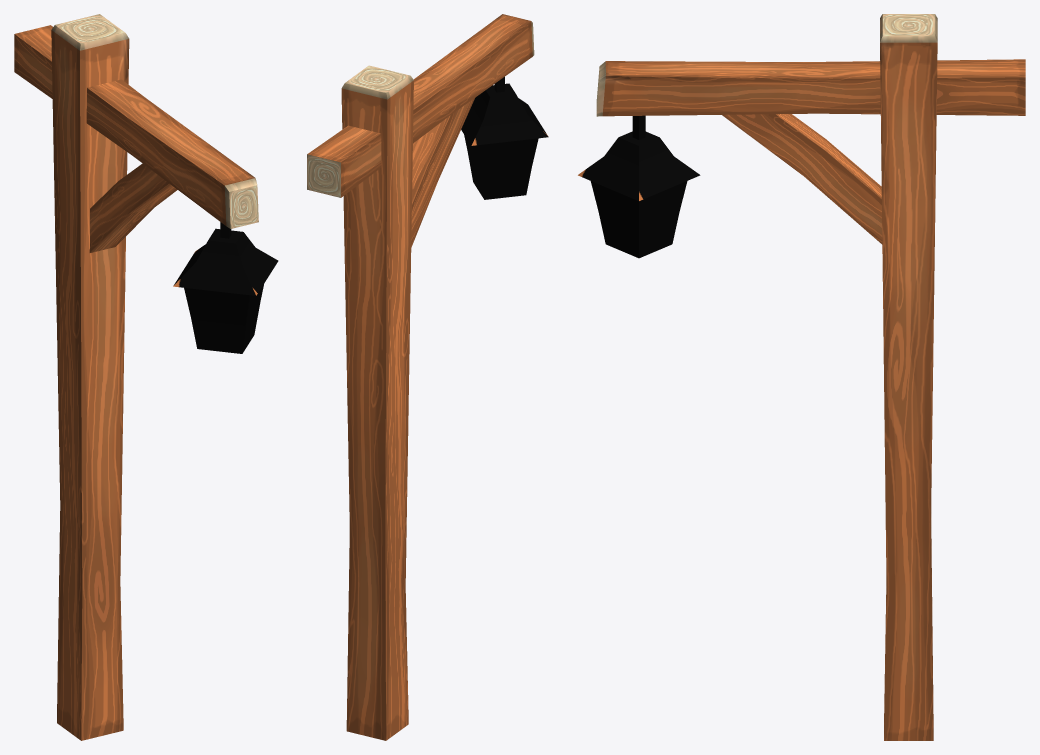
The model's file is Streetlamp_Wooden.fbx.
The picture shows the model from 3 angles, left to right: view 1: azimuth 30°, elevation 25°; view 2: azimuth 150°, elevation 25°; view 3: azimuth 270°, elevation 25°; orthographic projection. The views are drawn at different scales.
Parts seen in each view (by area): view 1: Streetlamp_Wood; view 2: Streetlamp_Wood; view 3: Streetlamp_Wood.
Part boxes in pixels (x1,y1,x2,y2): Streetlamp_Wood: (14,14,278,740); Streetlamp_Wood: (307,14,548,740); Streetlamp_Wood: (578,14,1025,740).
Size of the model in its own units: 34.81 by 220 by 127.
